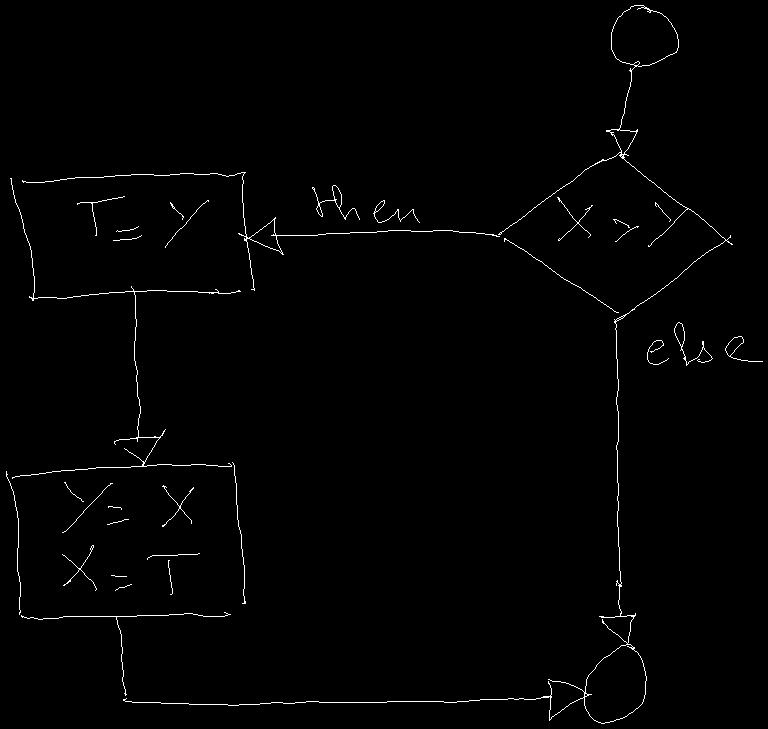arrow: (116, 617, 591, 720), (599, 319, 635, 643), (238, 217, 499, 254), (114, 286, 165, 465), (606, 61, 639, 158)
connection: (584, 644, 646, 723), (611, 5, 678, 66)
decision: (498, 152, 732, 322)
process: (6, 462, 245, 619), (10, 172, 254, 300)
text: (62, 482, 199, 594), (77, 196, 208, 247), (557, 197, 688, 246), (647, 322, 762, 365), (312, 185, 419, 222)
